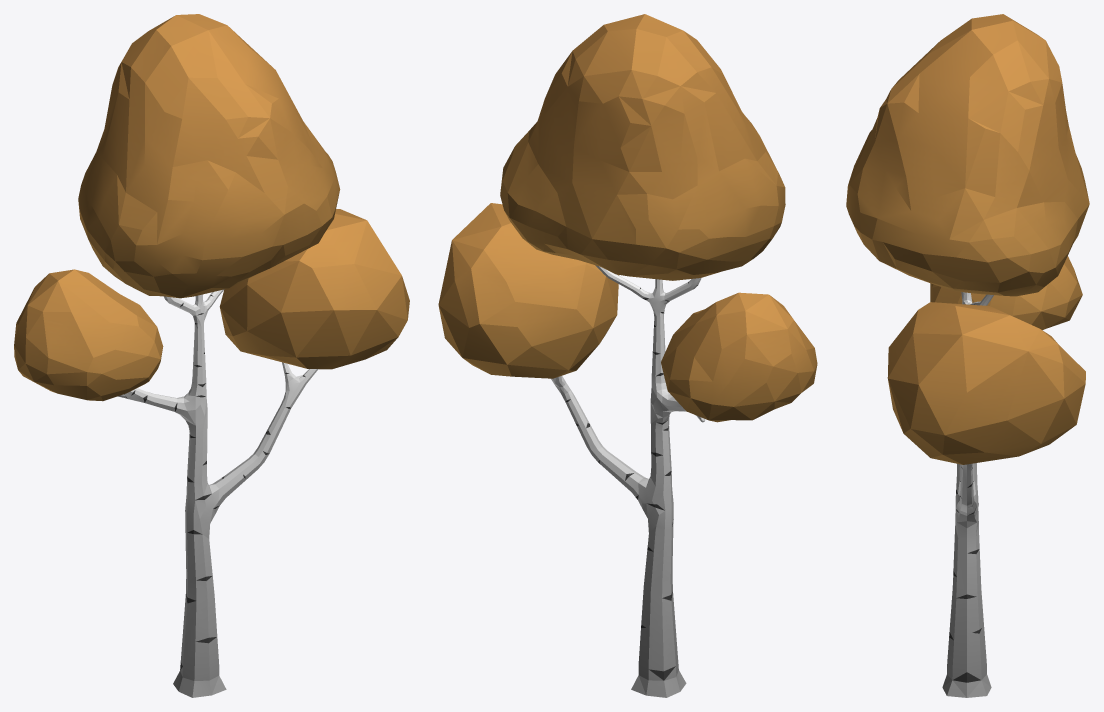
Rendered from Autumn_Tree_14.glb.
3 renders of one model, left to right at view 1: azimuth 30°, elevation 25°; view 2: azimuth 150°, elevation 25°; view 3: azimuth 270°, elevation 25°, orthographic. The views are drawn at different scales.
Parts seen in each view (by area): view 1: Autumn_Tree_14_LOD0; view 2: Autumn_Tree_14_LOD0; view 3: Autumn_Tree_14_LOD0.
Part boxes in pixels (left/top/right/bottom): Autumn_Tree_14_LOD0: left=14, top=14, right=409, bottom=697; Autumn_Tree_14_LOD0: left=438, top=14, right=817, bottom=697; Autumn_Tree_14_LOD0: left=846, top=14, right=1089, bottom=697.
Size of what is drawn, in the model's own units: 4.52 by 7.82 by 2.59.
1 material, 1 textured.
